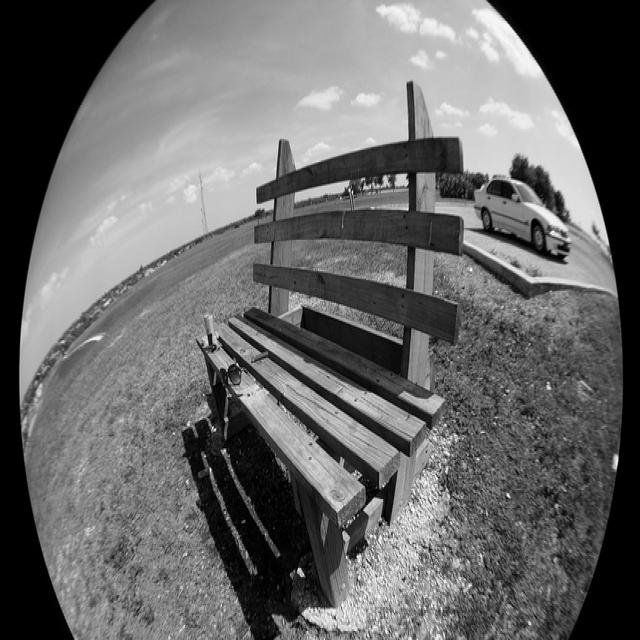Vehicle: (471, 175, 571, 259)
